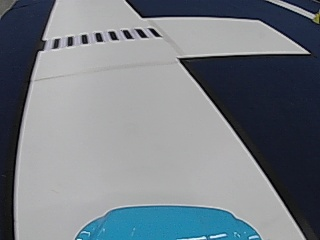CrossWalk: (43, 27, 161, 48)
